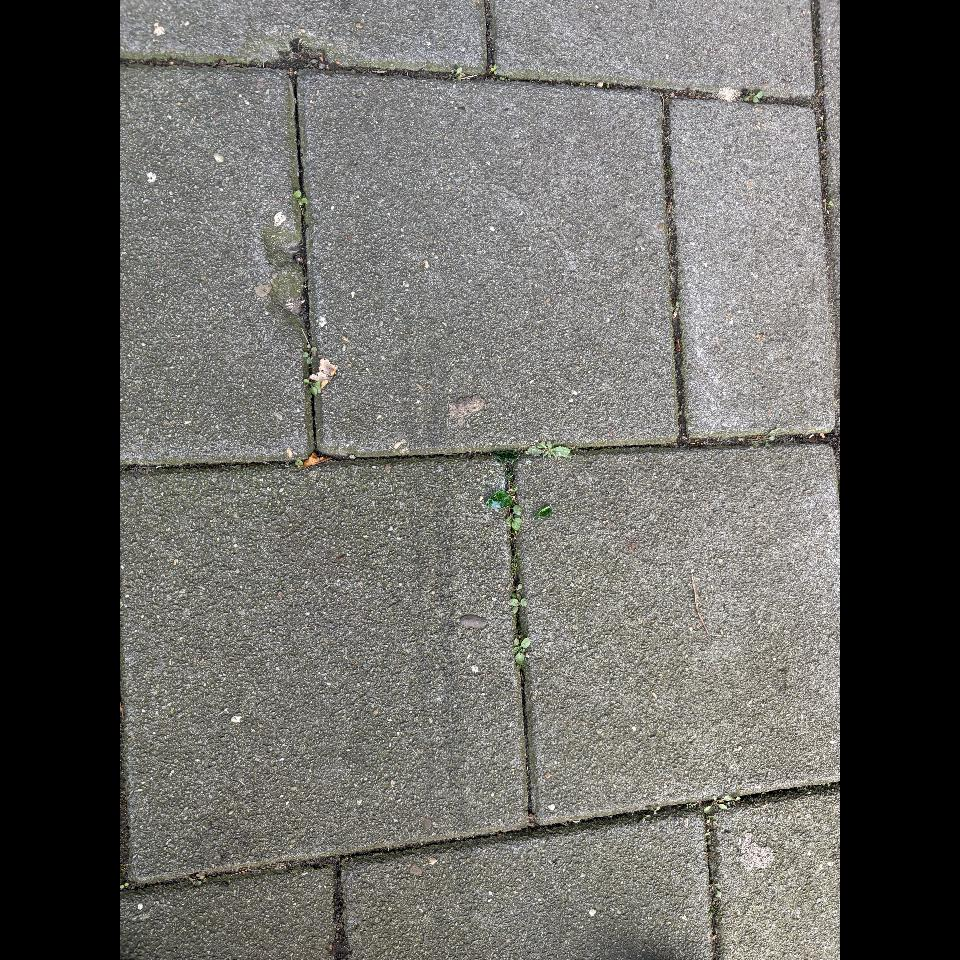weed: (526, 442, 571, 458), (505, 495, 523, 533), (513, 636, 530, 666), (510, 584, 527, 613), (293, 190, 307, 207)
